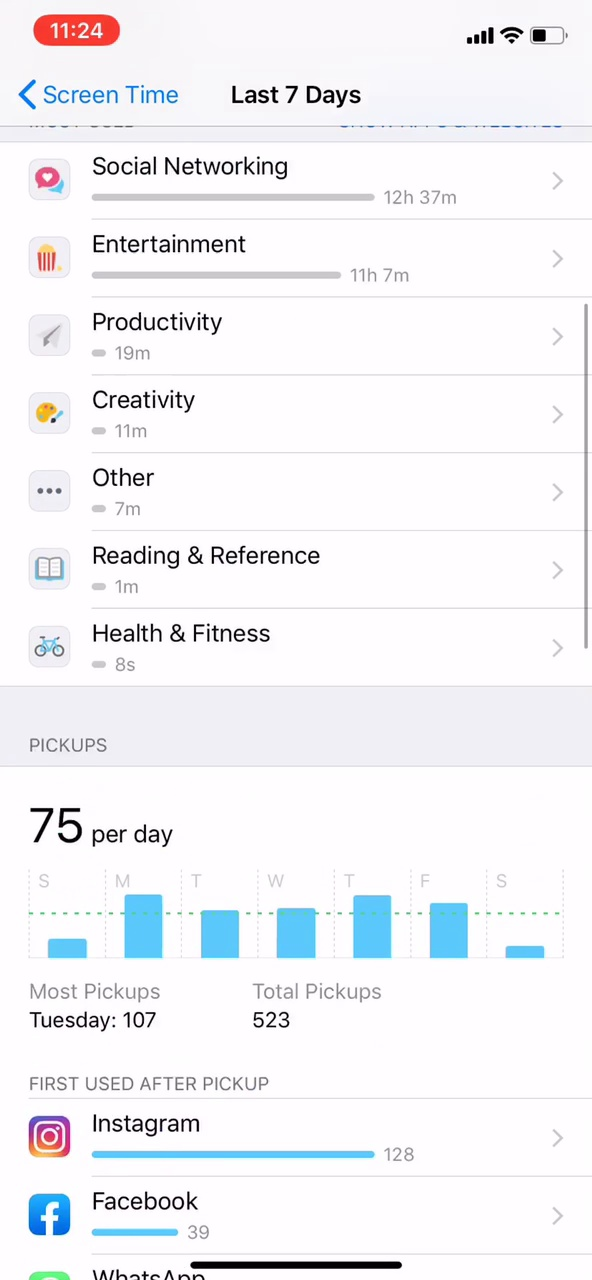pick_app: (17, 1105, 454, 1175), (17, 1182, 292, 1252)
pick_over: (23, 971, 422, 1049)
week: (219, 73, 376, 116)
